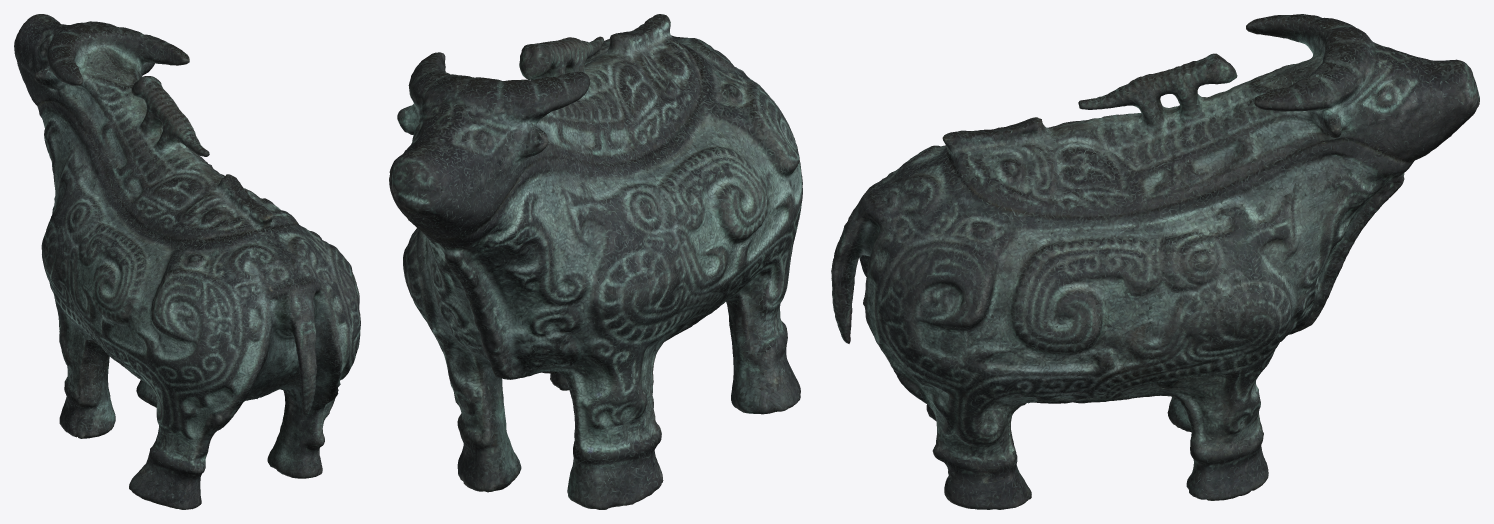
File: qingtongniu.glb
The picture shows the model from 3 angles, left to right: view 1: azimuth 30°, elevation 25°; view 2: azimuth 150°, elevation 25°; view 3: azimuth 270°, elevation 25°; orthographic projection. The views are drawn at different scales.
Parts seen in each view (by area): view 1: Obj3d66-741911-1-460; view 2: Obj3d66-741911-1-460; view 3: Obj3d66-741911-1-460.
Part boxes in pixels (x1,y1,x2,y2): Obj3d66-741911-1-460: (14,14,360,509); Obj3d66-741911-1-460: (389,14,802,509); Obj3d66-741911-1-460: (831,14,1479,509).
Bounding box in the file's own units: 84.14 × 131 × 180.
1 material, 1 textured.
